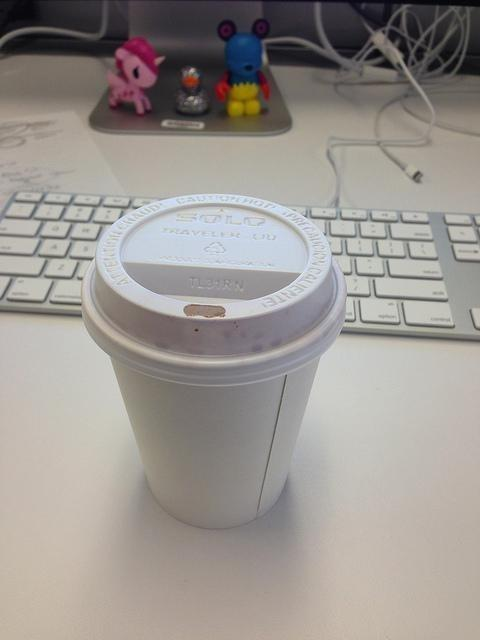cup-disposable: (83, 194, 348, 526)
